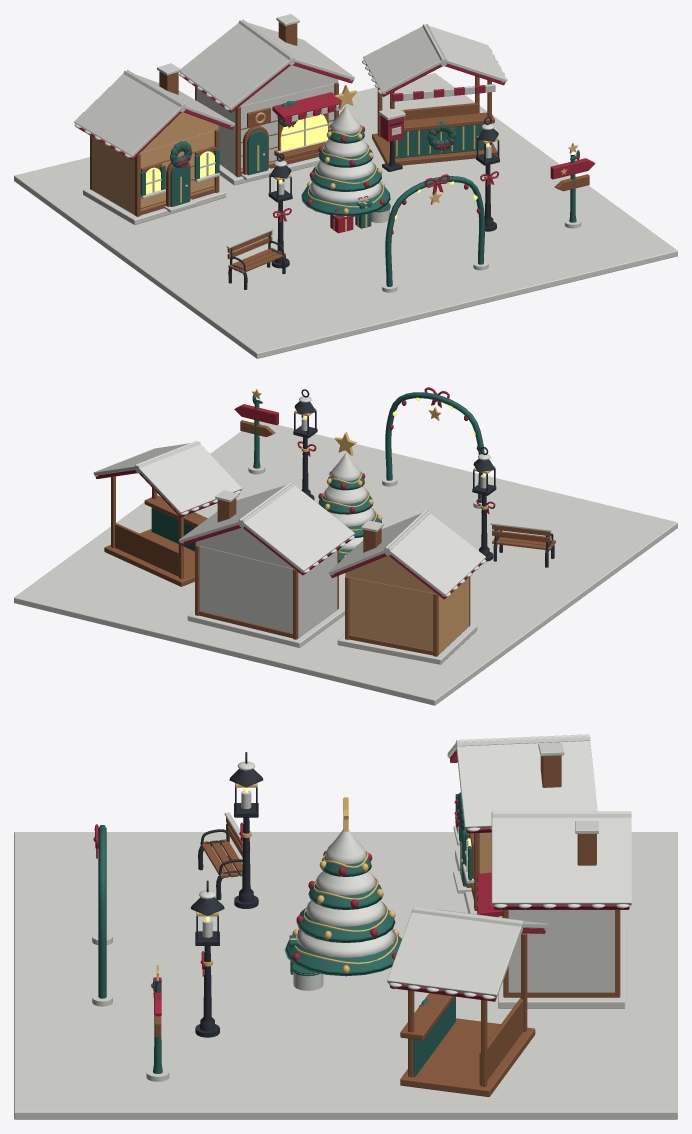
Rendered from christmas-storybook-storybook-village-sq-2359dfee-starter-scene__18782.glb.
3 renders of one model, top to bottom at view 1: azimuth 30°, elevation 25°; view 2: azimuth 150°, elevation 25°; view 3: azimuth 270°, elevation 25°, orthographic. The views are drawn at different scales.
Visible parts, largest first — view 1: 000-village-snow-foundation/cream, 003-patisserie/cream, 002-alpine-chalet/cream, 004-market-chalet/cream, 002-alpine-chalet/biscuit, 004-market-chalet/oak, 001-grand-festive-fir/pine, 001-grand-festive-fir/cream, 003-patisserie/oak, 004-market-chalet/pine, 002-alpine-chalet/oak, 003-patisserie/berry (+12 smaller); view 2: 000-village-snow-foundation/cream, 003-patisserie/cream, 002-alpine-chalet/biscuit, 002-alpine-chalet/cream, 004-market-chalet/cream, 004-market-chalet/oak, 001-grand-festive-fir/cream, 003-patisserie/oak, 002-alpine-chalet/oak, 007-festive-light-arch/pine, 008-park-bench/oak, 001-grand-festive-fir/pine (+7 smaller); view 3: 000-village-snow-foundation/cream, 003-patisserie/cream, 002-alpine-chalet/cream, 004-market-chalet/cream, 004-market-chalet/oak, 001-grand-festive-fir/cream, 001-grand-festive-fir/pine, 003-patisserie/oak, 005-ornate-streetlamp/ink, 006-ornate-streetlamp/ink, 001-grand-festive-fir/brass, 007-festive-light-arch/pine (+6 smaller).
Part boxes in pixels (<box>): 000-village-snow-foundation/cream: <box>14,73,677,358</box>; 003-patisserie/cream: <box>179,14,354,185</box>; 002-alpine-chalet/cream: <box>74,63,235,224</box>; 004-market-chalet/cream: <box>362,24,507,100</box>; 002-alpine-chalet/biscuit: <box>92,112,218,215</box>; 004-market-chalet/oak: <box>372,76,497,165</box>; 001-grand-festive-fir/pine: <box>301,129,390,216</box>; 001-grand-festive-fir/cream: <box>309,106,382,202</box>; 003-patisserie/oak: <box>195,22,338,177</box>; 004-market-chalet/pine: <box>394,121,484,158</box>; 002-alpine-chalet/oak: <box>90,71,219,216</box>; 003-patisserie/berry: <box>182,62,353,128</box>; 000-village-snow-foundation/cream: <box>14,421,677,705</box>; 003-patisserie/cream: <box>179,482,354,647</box>; 002-alpine-chalet/biscuit: <box>345,555,468,654</box>; 002-alpine-chalet/cream: <box>329,509,486,664</box>; 004-market-chalet/cream: <box>93,440,242,514</box>; 004-market-chalet/oak: <box>104,476,207,586</box>; 001-grand-festive-fir/cream: <box>323,453,375,549</box>; 003-patisserie/oak: <box>195,498,338,639</box>; 002-alpine-chalet/oak: <box>345,528,470,656</box>; 007-festive-light-arch/pine: <box>385,392,484,502</box>; 008-park-bench/oak: <box>492,525,555,550</box>; 001-grand-festive-fir/pine: <box>318,475,381,562</box>; 000-village-snow-foundation/cream: <box>14,832,677,1119</box>; 003-patisserie/cream: <box>477,811,631,1008</box>; 002-alpine-chalet/cream: <box>447,734,597,914</box>; 004-market-chalet/cream: <box>387,907,548,999</box>; 004-market-chalet/oak: <box>400,933,535,1096</box>; 001-grand-festive-fir/cream: <box>296,829,395,957</box>; 001-grand-festive-fir/pine: <box>284,856,401,976</box>; 003-patisserie/oak: <box>501,834,620,997</box>; 005-ornate-streetlamp/ink: <box>229,752,263,908</box>; 006-ornate-streetlamp/ink: <box>190,880,224,1037</box>; 001-grand-festive-fir/brass: <box>292,797,399,973</box>; 007-festive-light-arch/pine: <box>98,825,106,998</box>.
Size of the model in its own units: 12 by 3.63 by 12.
